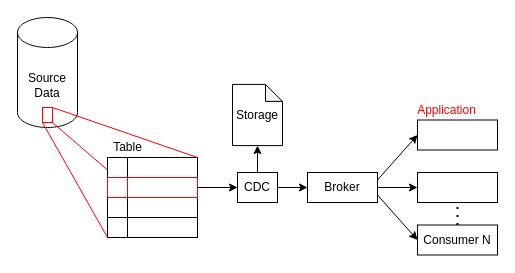
Image size: 515x273. Some labels were removed from this diagram. The shapes that lost their labels are listed below. From the top down, each one's centre as x and y in pixels, then its label:
At pixel 457 134: "Consumer 1".
At pixel 457 187: "Consumer 2".
